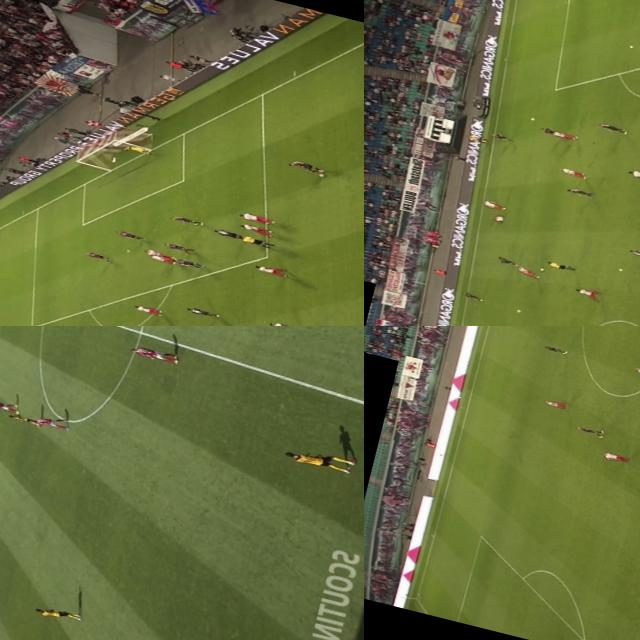ball: (313, 170, 326, 178), (529, 116, 536, 122), (628, 43, 636, 48), (617, 267, 624, 272), (514, 308, 522, 312), (539, 266, 542, 270)
player: (282, 441, 359, 476), (128, 341, 182, 365), (33, 602, 83, 624), (286, 157, 326, 174), (33, 412, 70, 430), (252, 261, 288, 278), (6, 411, 42, 427), (168, 211, 203, 227), (570, 422, 604, 438), (81, 248, 114, 264), (185, 302, 218, 318), (114, 226, 146, 242), (212, 226, 244, 241), (574, 286, 604, 302), (237, 211, 273, 224), (240, 222, 273, 236), (132, 302, 162, 317), (164, 238, 192, 254), (120, 143, 154, 156), (172, 255, 201, 269), (596, 121, 627, 134), (514, 264, 542, 278), (558, 166, 588, 179), (0, 396, 21, 414), (539, 340, 566, 354), (601, 448, 627, 462), (550, 129, 580, 141), (566, 186, 595, 198), (542, 398, 570, 410), (540, 127, 567, 139), (462, 290, 486, 302), (269, 319, 308, 326), (144, 248, 170, 258), (150, 252, 173, 263), (482, 200, 507, 210), (497, 255, 518, 266), (492, 132, 514, 142), (627, 248, 640, 262), (629, 167, 640, 183), (495, 214, 505, 222)
